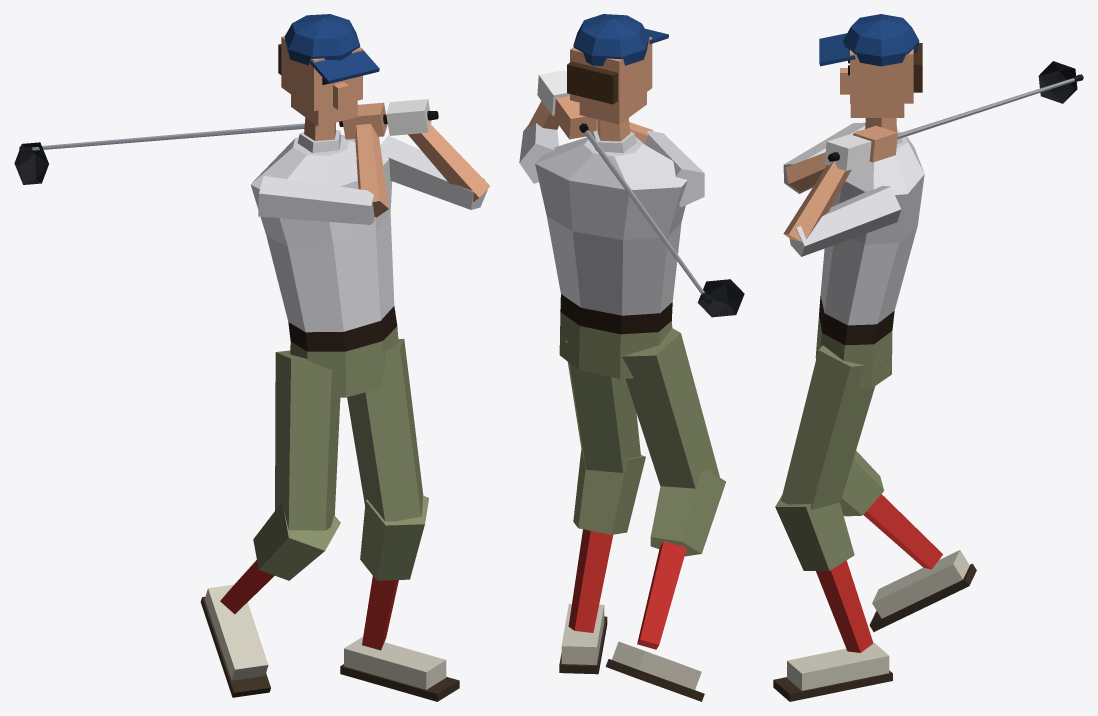
The model's file is golfer.glb.
3 views of the same model, side by side, from view 1: azimuth 30°, elevation 25°; view 2: azimuth 150°, elevation 25°; view 3: azimuth 270°, elevation 25° (orthographic). The views are drawn at different scales.
Visible parts, largest first — view 1: golfer_mesh; view 2: golfer_mesh; view 3: golfer_mesh.
Boxes of the visible parts, box(x1,y1,x2,y2) form: golfer_mesh: box(14, 14, 490, 701); golfer_mesh: box(519, 14, 744, 701); golfer_mesh: box(773, 14, 1083, 701).
Size of the model in its own units: 1.01 by 1.85 by 0.8139.
